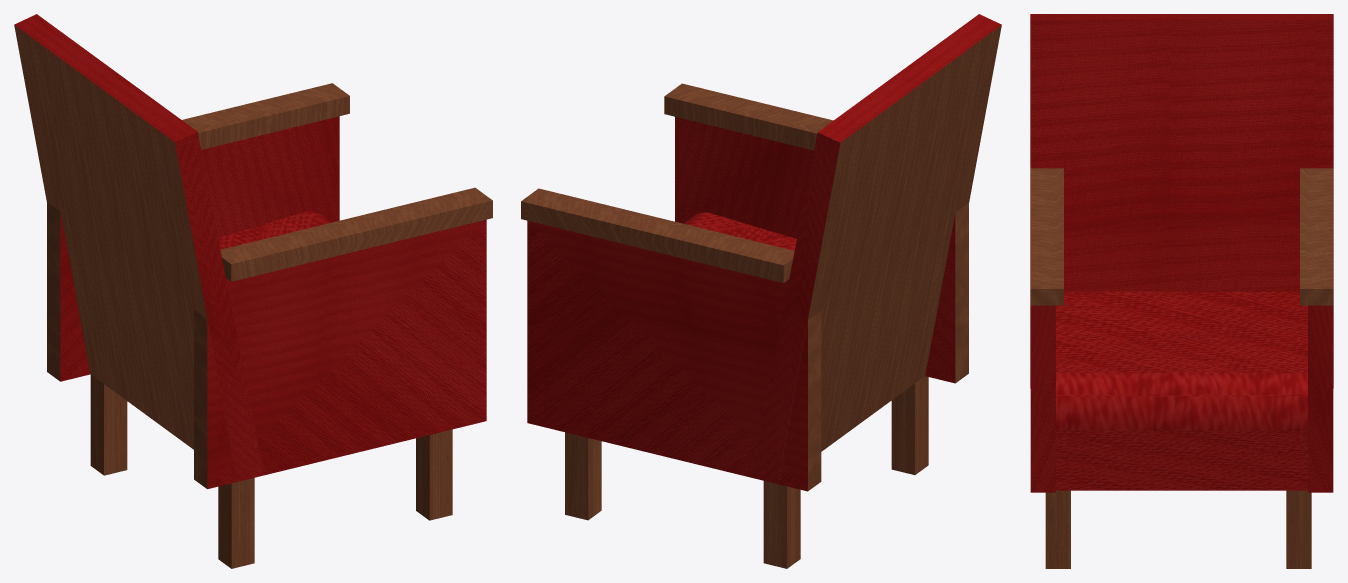
Rendered from Кресло.glb.
The picture shows the model from 3 angles, left to right: view 1: azimuth 30°, elevation 25°; view 2: azimuth 150°, elevation 25°; view 3: azimuth 270°, elevation 25°; orthographic projection. The views are drawn at different scales.
Visible parts, largest first — view 1: Cube.003, Cube; view 2: Cube.003, Cube; view 3: Cube.003, Cube.
Part boxes in pixels (x1,y1,x2,y2): Cube.003: [14, 14, 486, 488]; Cube: [14, 25, 492, 568]; Cube.003: [527, 14, 1001, 491]; Cube: [521, 25, 1001, 568]; Cube.003: [1030, 14, 1333, 492]; Cube: [1030, 168, 1333, 568].
Bounding box in the file's own units: 1.37 × 1.87 × 1.2.
4 materials, 4 textured.
